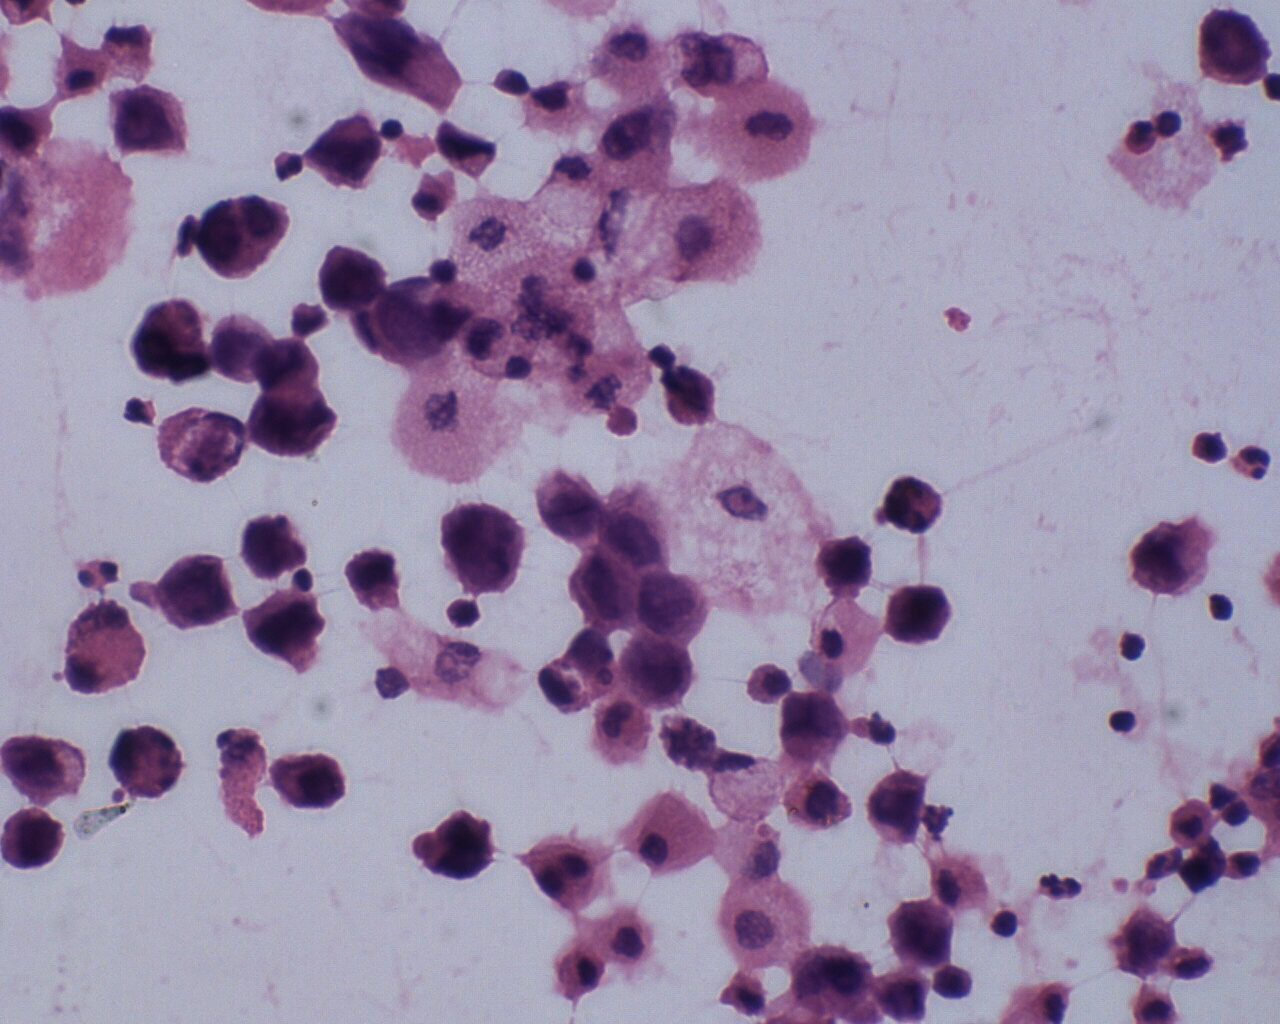ab: (435, 502, 537, 598), (240, 586, 329, 675), (152, 549, 239, 636), (305, 108, 383, 196), (1195, 6, 1274, 90), (104, 84, 188, 162), (529, 463, 606, 548), (614, 635, 697, 714), (631, 562, 709, 641), (565, 549, 638, 632), (315, 239, 390, 317), (887, 895, 958, 976), (270, 747, 349, 815), (884, 579, 954, 650), (1, 806, 66, 875), (813, 530, 876, 600)
histo: (629, 785, 717, 875)
lymph: (1107, 706, 1144, 739), (1207, 588, 1237, 626)
neutro: (1230, 442, 1272, 487)
